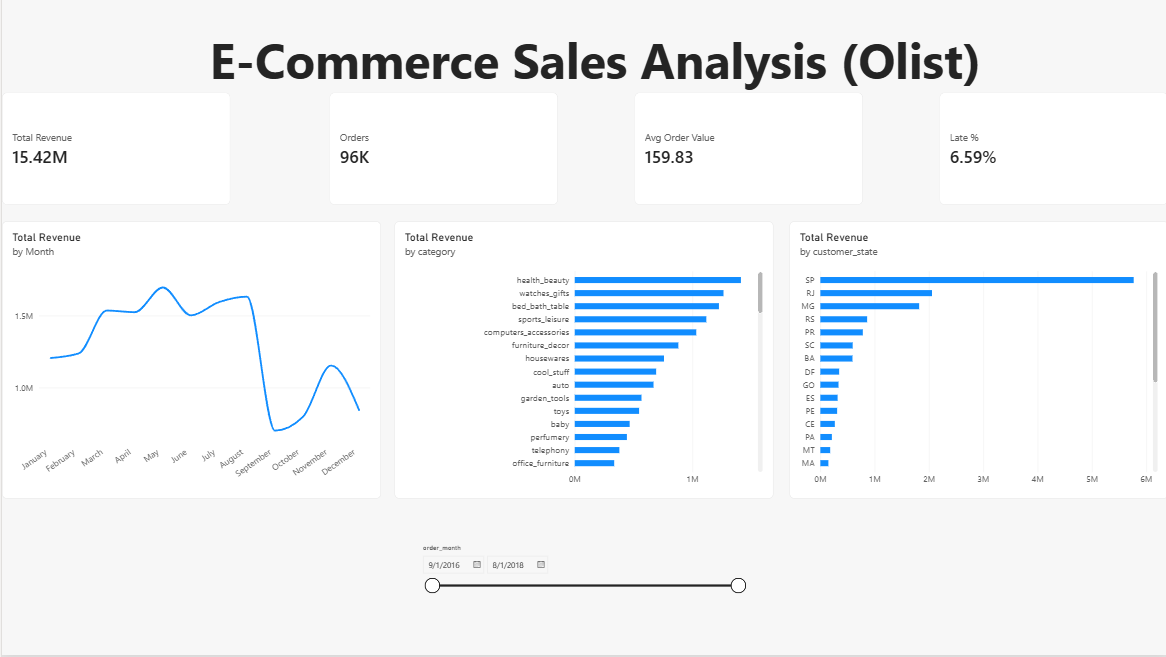

What the dashboard file says about the page in this screenshot:
{"tool":"powerbi","page":{"name":"Sales Analysis","canvas":[1920,1080],"ordinal":0},"visuals":[{"type":"barChart","fields":{"Category":["fact_sales.category"],"Y":["fact_sales.Total Revenue"]},"box":[646.3,363.5,623.7,456.9],"z":0},{"type":"lineChart","fields":{"Category":["fact_sales.order_month.Variation.Date Hierarchy.Month"],"Y":["fact_sales.Total Revenue"]},"box":[0,363.5,623.7,456.9],"z":1000},{"type":"slicer","fields":{"Values":["fact_sales.order_month"]},"box":[685.4,895.4,543.4,102.9],"z":2000},{"type":"barChart","fields":{"Category":["fact_sales.customer_state"],"Y":["fact_sales.Total Revenue"]},"box":[1296.7,363.5,623.7,456.9],"z":3000},{"type":"textbox","box":[325.2,43.2,1302.9,127.6],"z":4000},{"type":"cardVisual","fields":{"Data":["fact_sales.Total Revenue"]},"box":[0,152.3,376.7,185.2],"z":5000},{"type":"cardVisual","fields":{"Data":["fact_sales.Orders"]},"box":[539.3,152.3,376.7,185.2],"z":6000},{"type":"cardVisual","fields":{"Data":["fact_sales.Avg Order Value"]},"box":[1041.5,152.3,376.7,185.2],"z":7000},{"type":"cardVisual","fields":{"Data":["fact_sales.Late %"]},"box":[1543.7,152.3,376.7,185.2],"z":8000}]}

Visuals, with their boxes in screenshot pixels (x1, y1, x2, y2), scaled from the page's 1920x1080 canvas onto the 1166x657 screenshot:
barChart - fact_sales.category x fact_sales.Total Revenue: <bbox>392, 221, 771, 499</bbox>
lineChart - fact_sales.order_month.Variation.Date Hierarchy.Month x fact_sales.Total Revenue: <bbox>0, 221, 379, 499</bbox>
slicer - fact_sales.order_month: <bbox>416, 545, 746, 607</bbox>
barChart - fact_sales.customer_state x fact_sales.Total Revenue: <bbox>787, 221, 1165, 499</bbox>
textbox: <bbox>197, 26, 989, 104</bbox>
cardVisual - fact_sales.Total Revenue: <bbox>0, 93, 229, 205</bbox>
cardVisual - fact_sales.Orders: <bbox>328, 93, 556, 205</bbox>
cardVisual - fact_sales.Avg Order Value: <bbox>632, 93, 861, 205</bbox>
cardVisual - fact_sales.Late %: <bbox>937, 93, 1165, 205</bbox>
